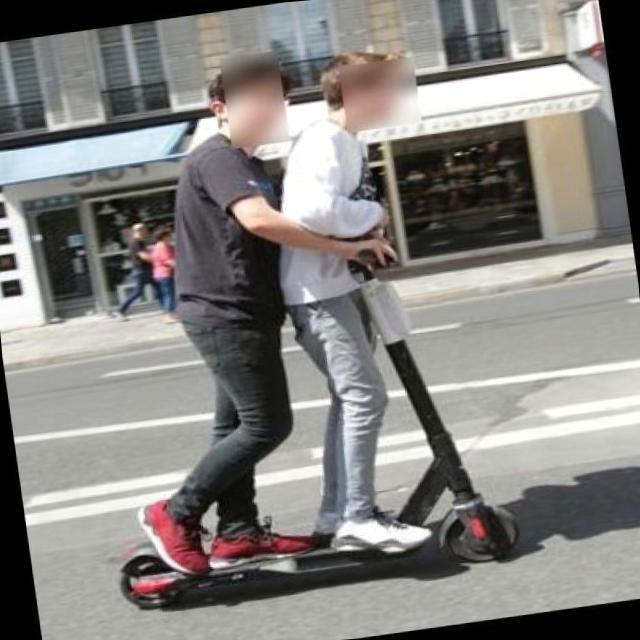bare_head: (319, 33, 411, 143), (206, 52, 291, 152)
human: (133, 55, 288, 565), (300, 36, 408, 546)
kickboard: (103, 505, 557, 609)
